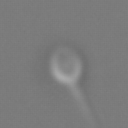normal: (69, 83, 105, 128)
